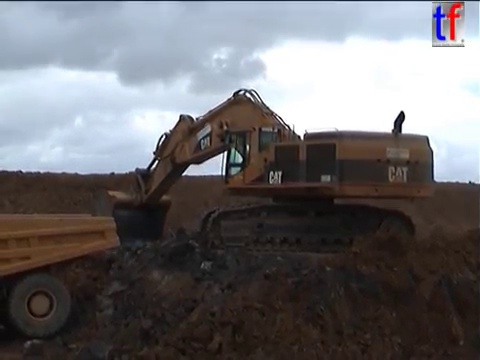excavator: (91, 86, 437, 260)
truck: (1, 211, 122, 340)
